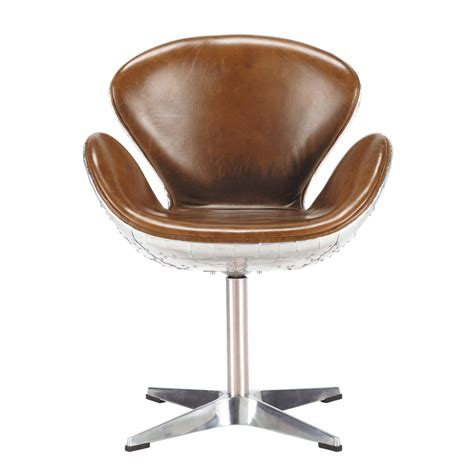cuero: (84, 34, 393, 243)
